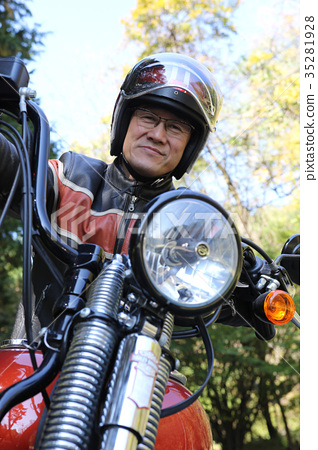helmet: (121, 47, 217, 155)
